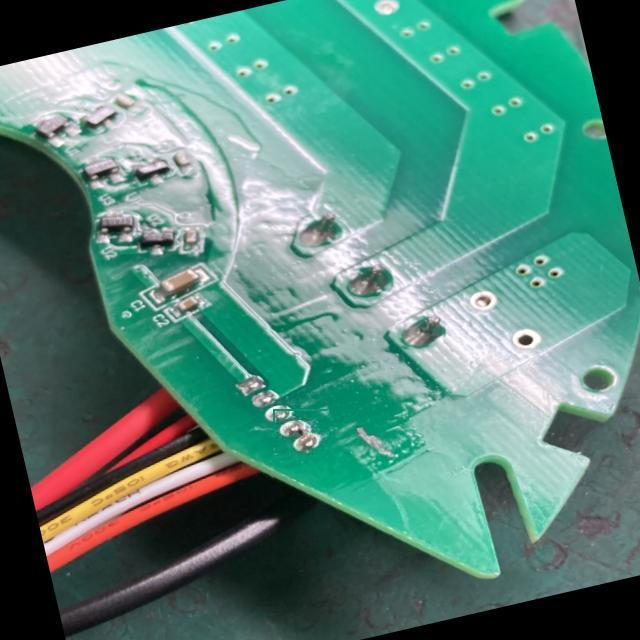damged: (274, 410, 329, 455)
